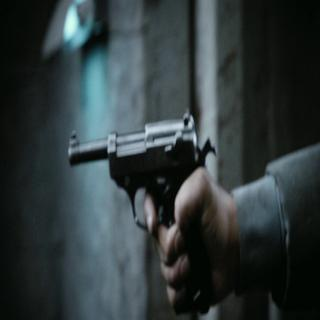gun: (68, 102, 216, 320)
